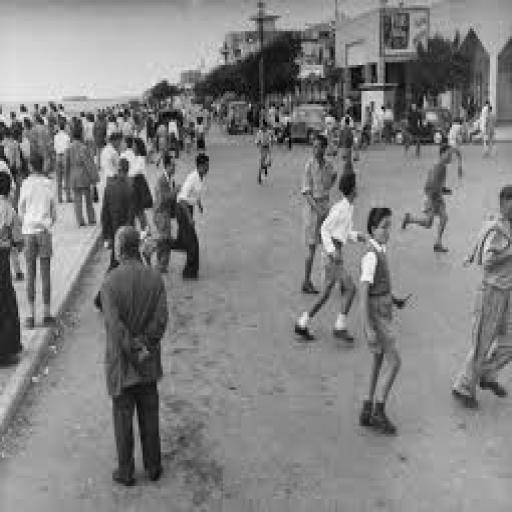running: (94, 224, 173, 488), (354, 203, 416, 439), (450, 182, 510, 411)
